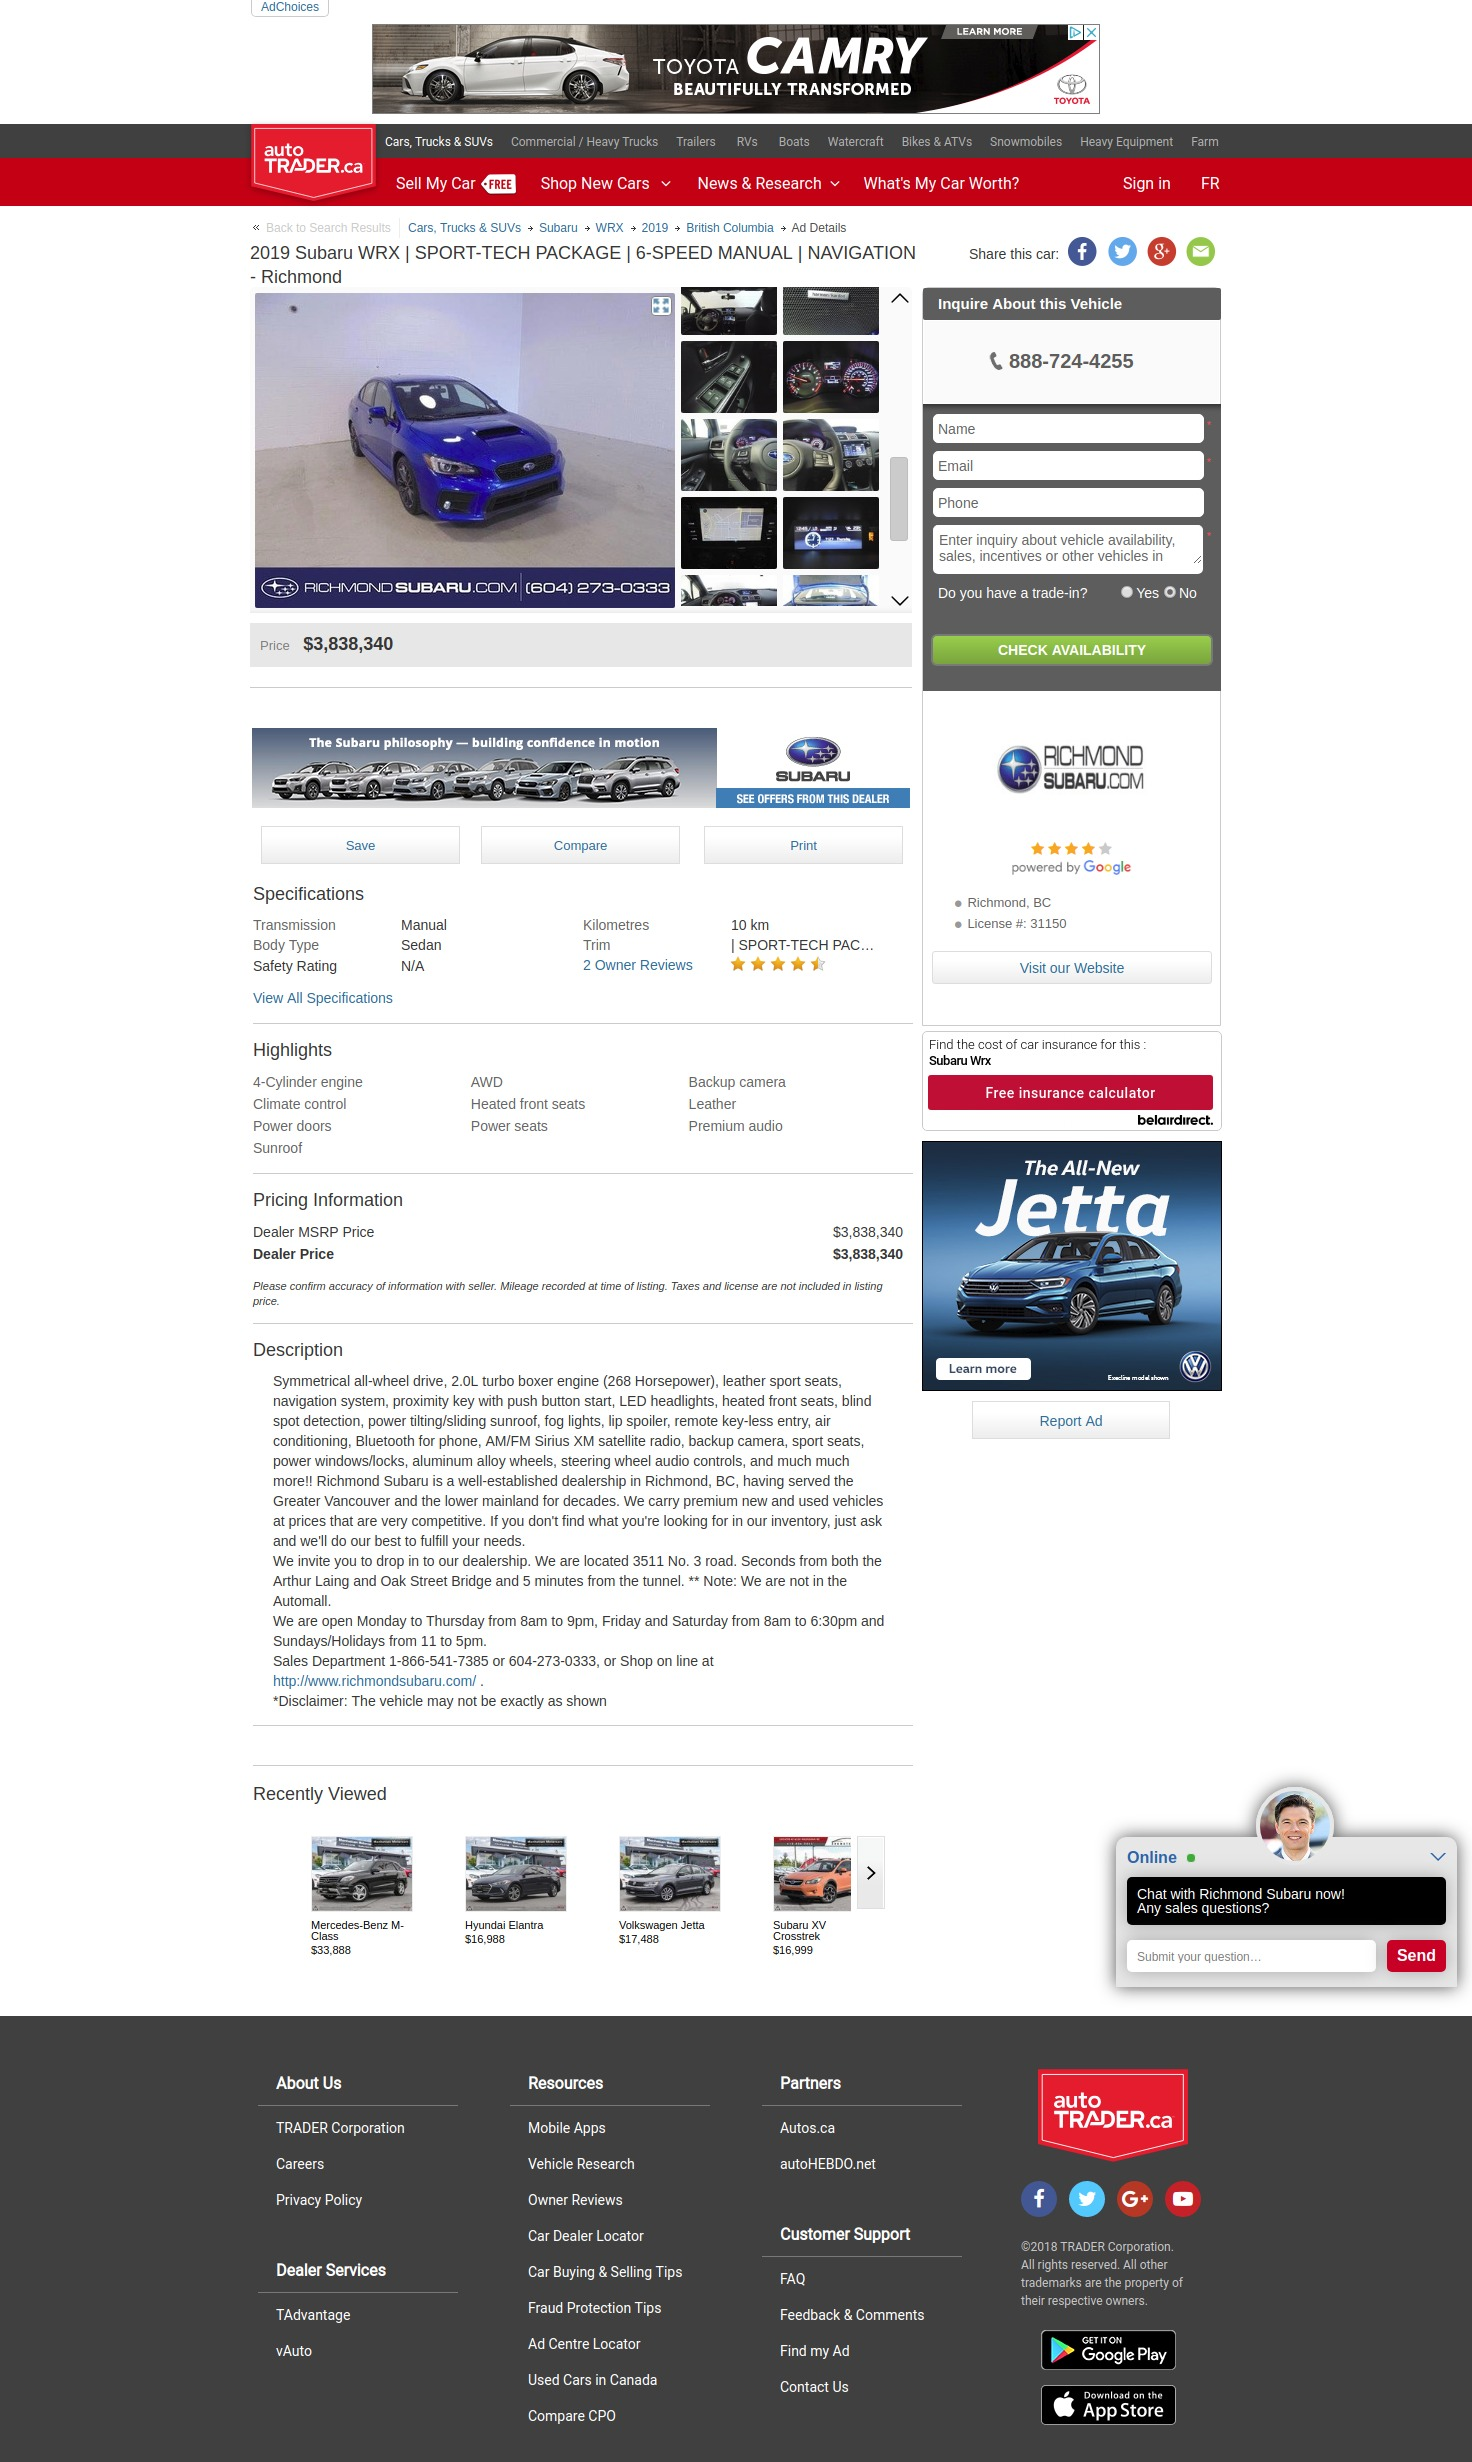car: (890, 594, 911, 608)
